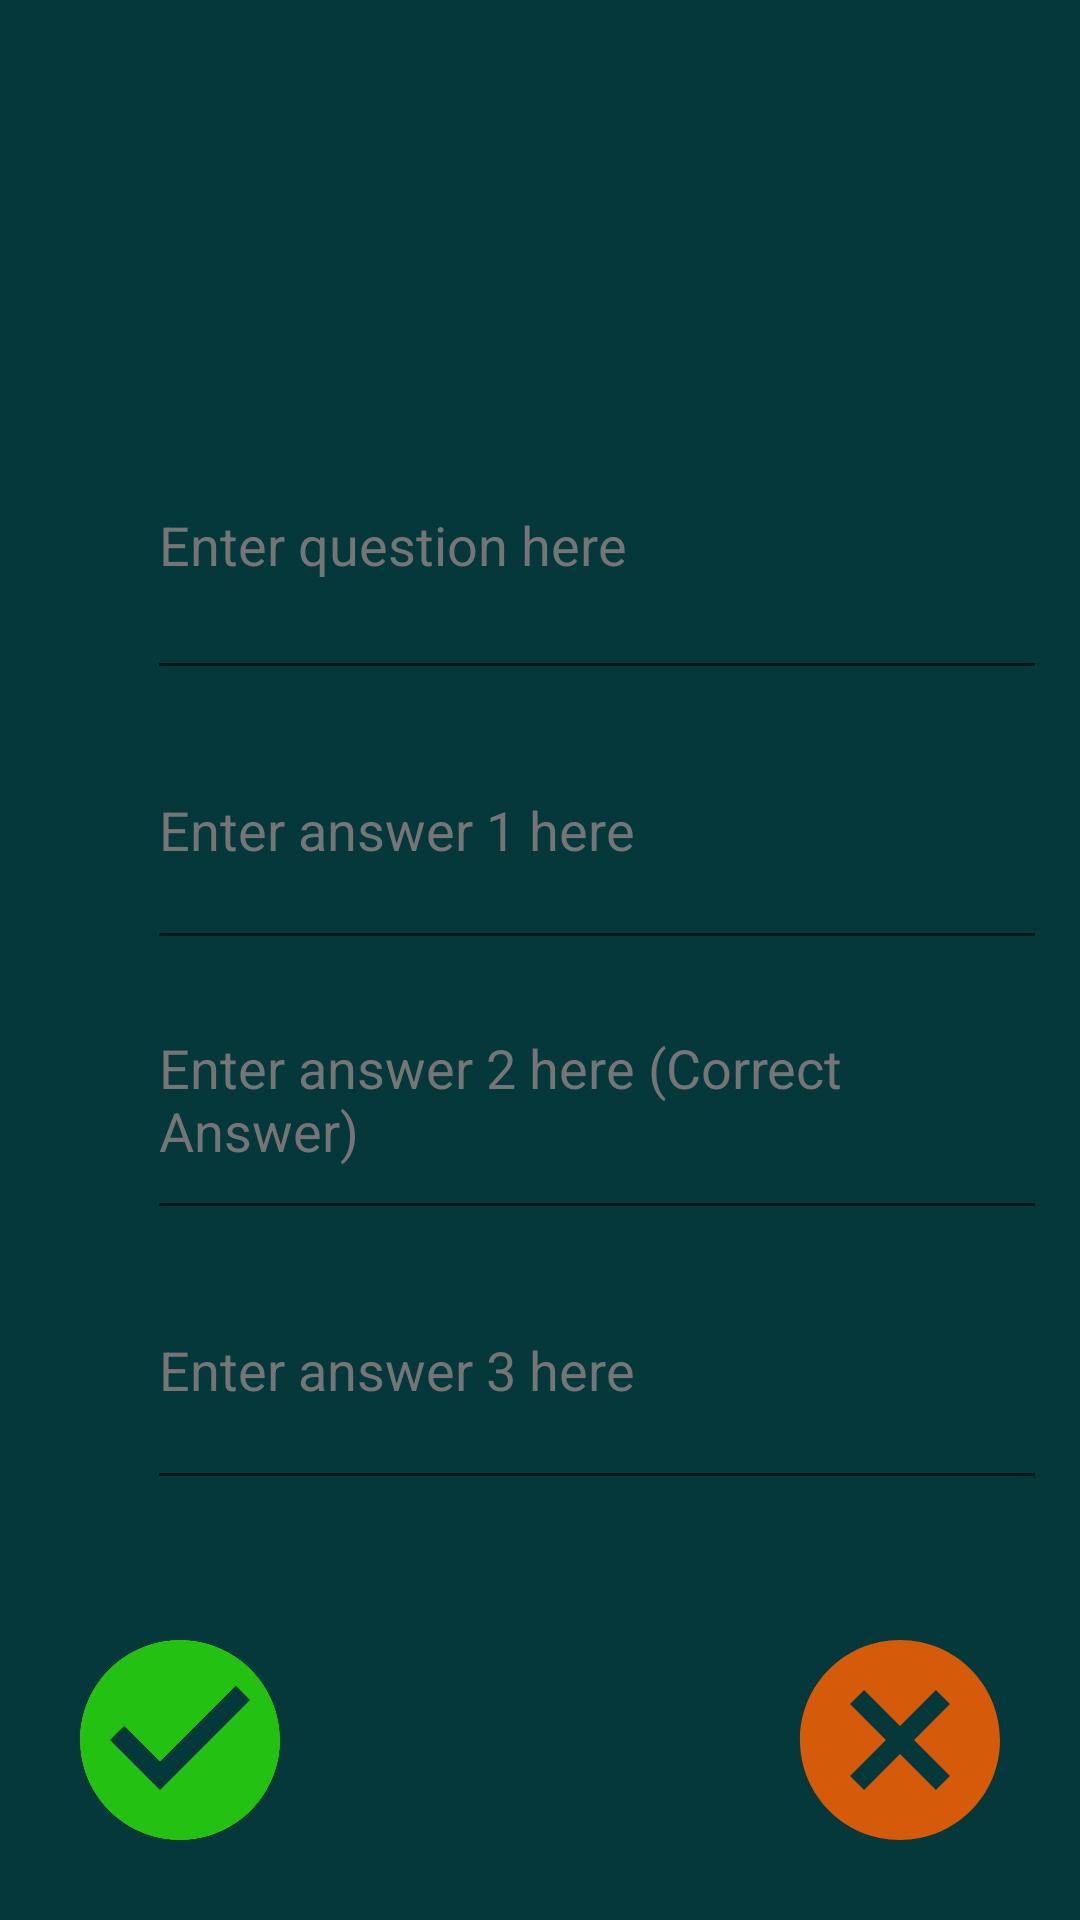

Where icons sit on this 1080w x 1920h app screen, as (x1, y1, x2, y2):
cancel: (800, 1640, 1000, 1840)
check circle: (80, 1640, 280, 1840)
